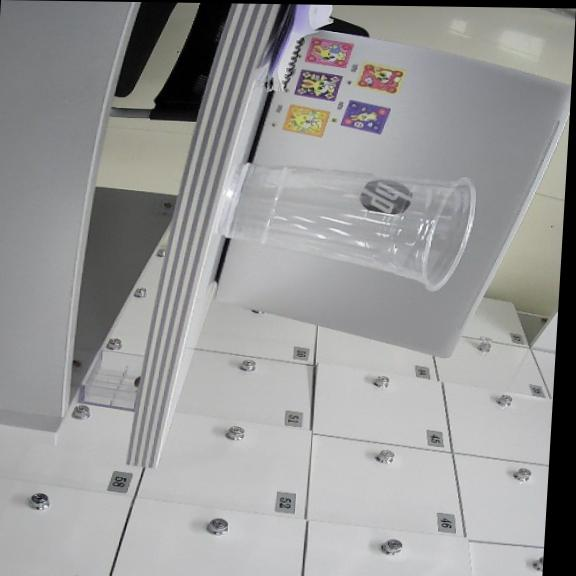Plastik: (220, 164, 474, 290)
